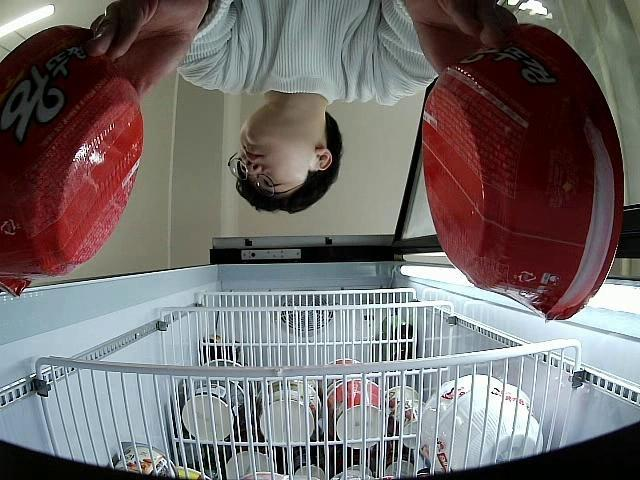10_wangTtukkeong: (421, 20, 625, 321), (0, 25, 143, 298)
